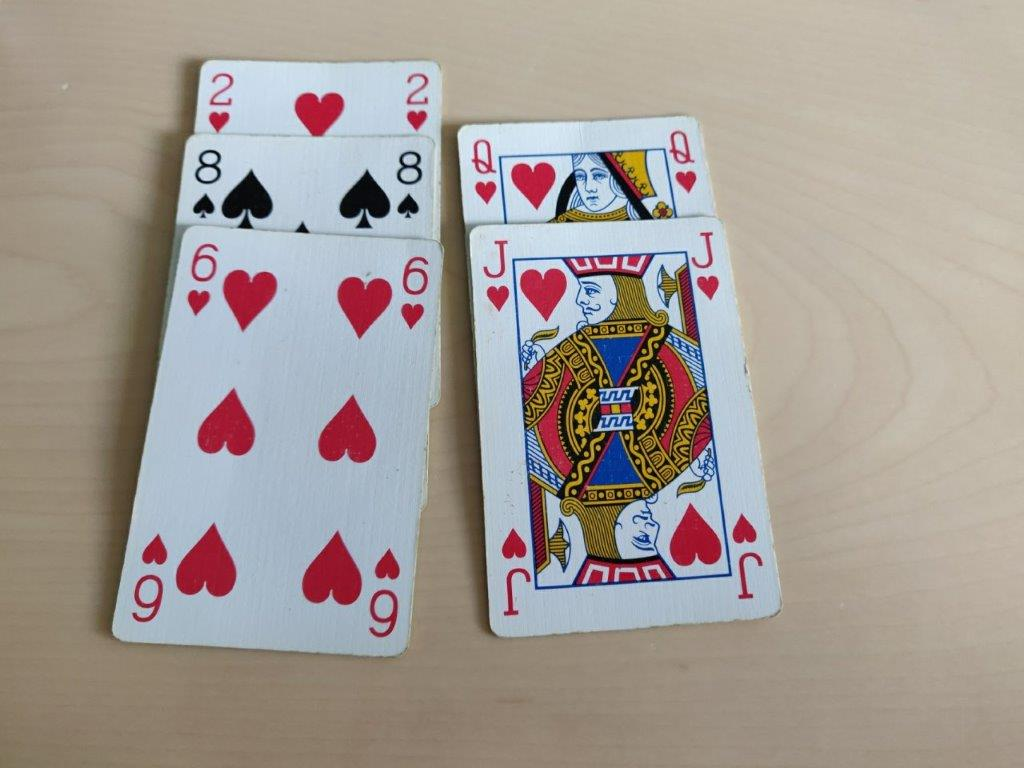2H: (201, 63, 241, 134), (397, 66, 437, 137)
6H: (174, 237, 223, 331), (389, 248, 438, 342)
8S: (185, 141, 224, 225), (394, 143, 433, 227)
JH: (473, 231, 520, 317), (686, 227, 727, 310)
QH: (463, 130, 503, 214), (661, 122, 699, 198)
